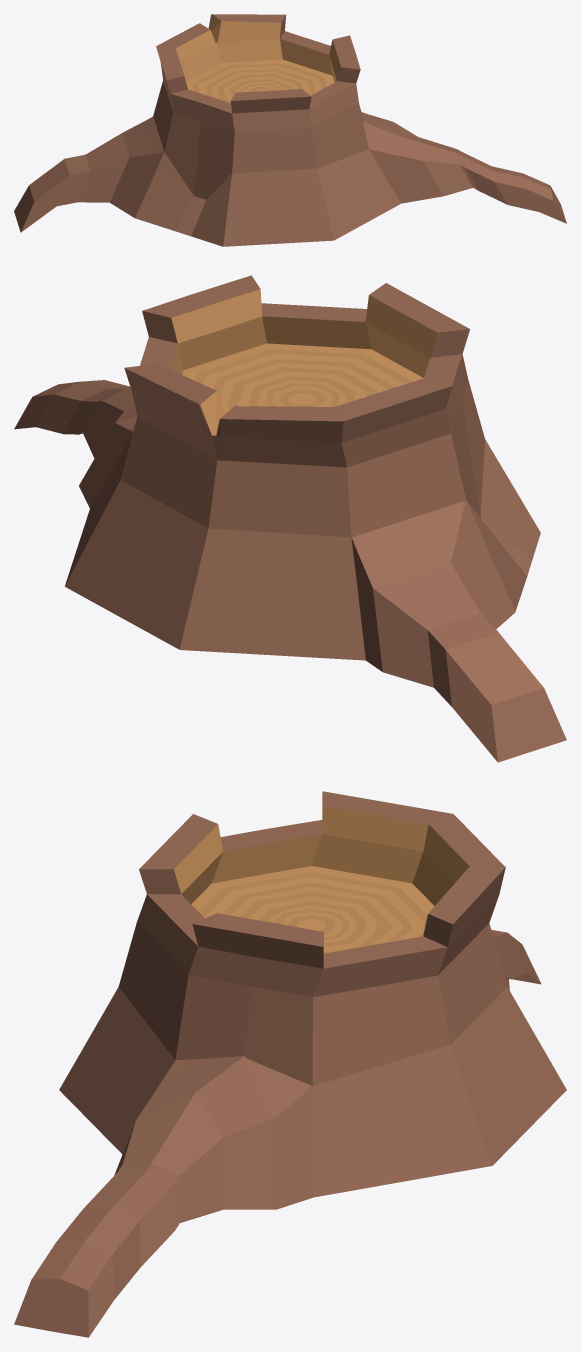
The model's file is Tree Stump.fbx.
The picture shows the model from 3 angles, top to bottom: view 1: azimuth 30°, elevation 25°; view 2: azimuth 150°, elevation 25°; view 3: azimuth 270°, elevation 25°; orthographic projection. The views are drawn at different scales.
Visible parts, largest first — view 1: Circle; view 2: Circle; view 3: Circle.
Part boxes in pixels (left/top/right/bottom): Circle: left=14, top=14, right=566, bottom=246; Circle: left=14, top=275, right=566, bottom=762; Circle: left=14, top=791, right=566, bottom=1337.
Bounding box in the file's own units: 609 × 214 × 387.
